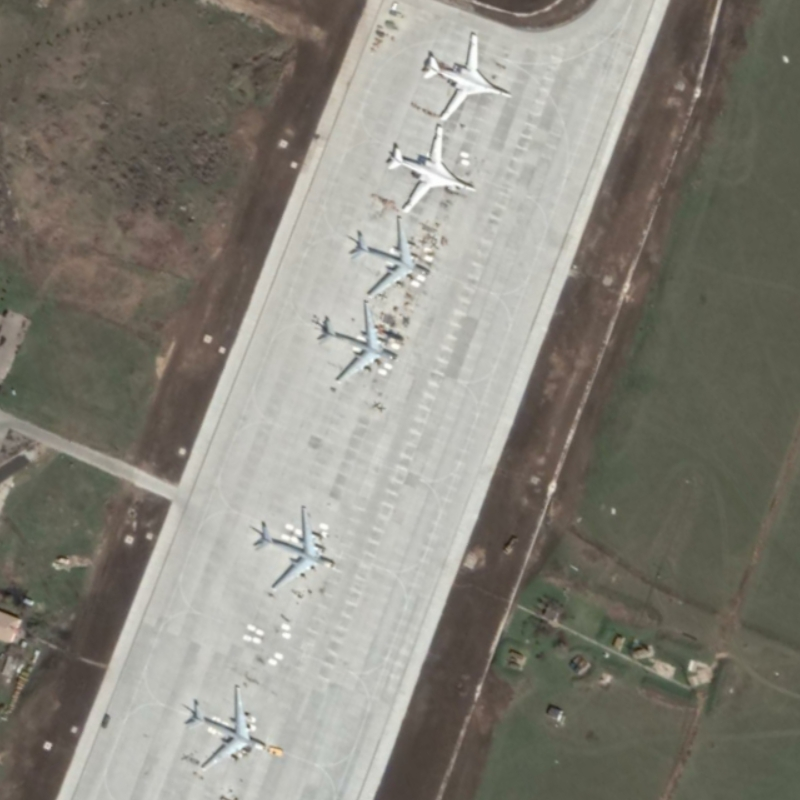A17: (182, 679, 269, 772), (250, 503, 339, 593), (314, 299, 399, 386), (348, 214, 431, 297)
A6: (418, 31, 514, 122), (381, 123, 477, 214)
